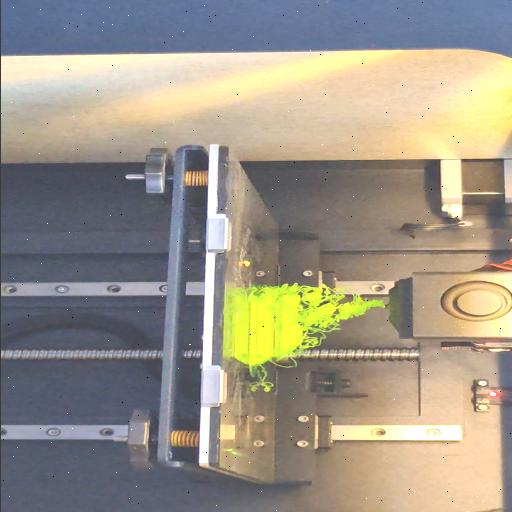spaghetti: (300, 285, 382, 347), (251, 284, 301, 296), (258, 364, 272, 392), (272, 358, 302, 368)
